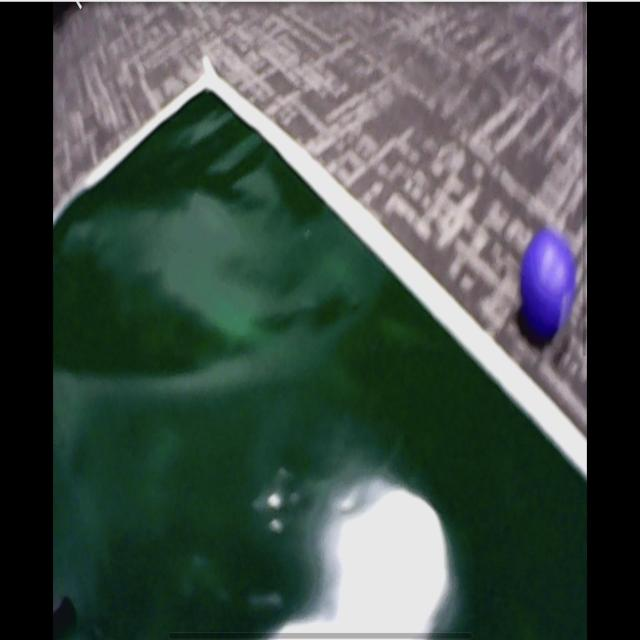ball: (519, 232, 574, 327)
